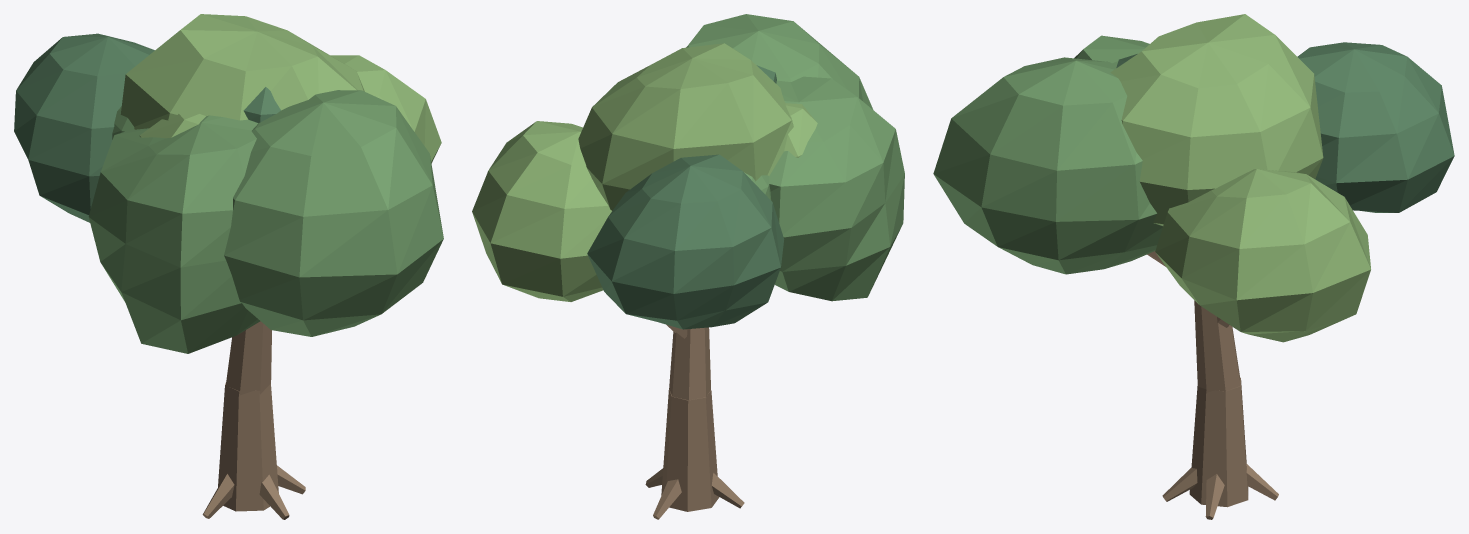
File: tree_round_b.glb
3 views of the same model, side by side, from view 1: azimuth 30°, elevation 25°; view 2: azimuth 150°, elevation 25°; view 3: azimuth 270°, elevation 25° (orthographic). The views are drawn at different scales.
Visible parts, largest first — view 1: tree_round_b; view 2: tree_round_b; view 3: tree_round_b.
Part boxes in pixels (<box>): tree_round_b: <box>14,14,443,519</box>; tree_round_b: <box>472,14,904,519</box>; tree_round_b: <box>933,14,1454,519</box>.
Size of what is drawn, in the model's own units: 4.02 by 4.89 by 5.05.
